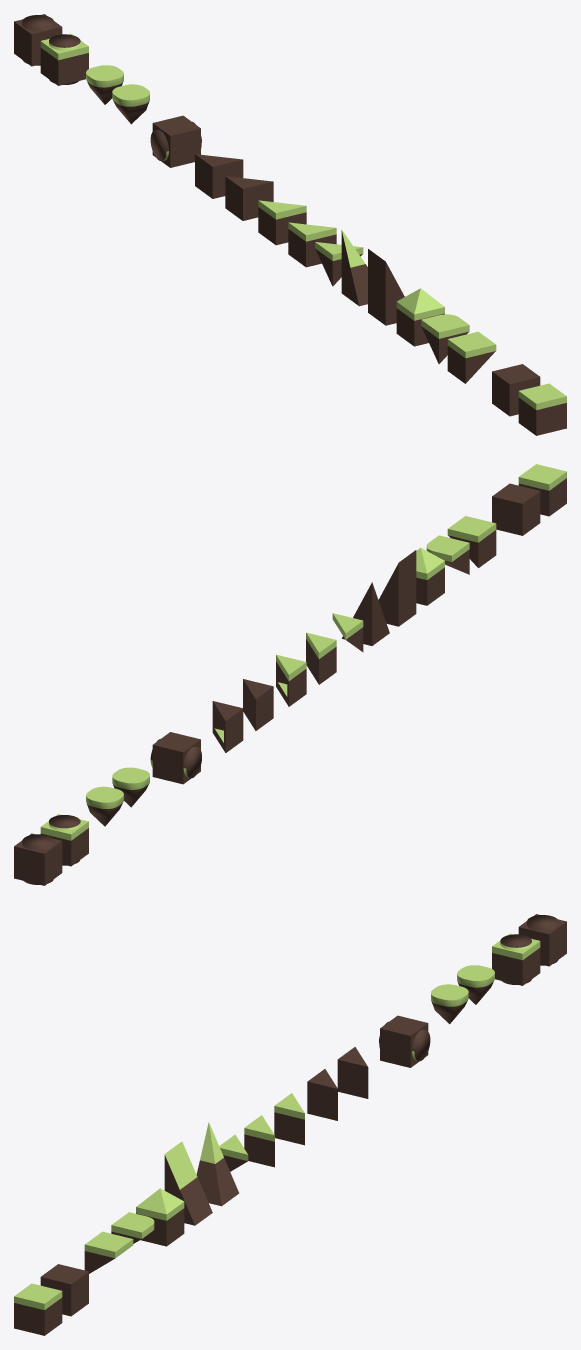
File: Tiles 03.gltf
3 views of the same model, one above another, from view 1: azimuth 30°, elevation 25°; view 2: azimuth 150°, elevation 25°; view 3: azimuth 330°, elevation 25° (orthographic).
Parts seen in each view (by area): view 1: 01 Ground Base -col, 05 Wall Slanted -col, 02 Ground Edge -col, 04 Ground Spike -col, 13 Ground Hole -col, 10 Ground Block Hollow -col, 09 Ground Triangle Block -col, 01b Ground Block -col, 09b Ground Triangle Block Hollow -col, 09b Ground Triangle Hollow -col.001, 08 Ground Trinagle 2 -col, 06 Wall Slanted Corner -col (+5 smaller); view 2: 01b Ground Block -col, 05 Wall Slanted -col, 14 Ground Block Hole -col, 10 Ground Block Hollow -col, 01 Ground Base -col, 02 Ground Edge -col, 04 Ground Spike -col, 09b Ground Triangle Block Hollow -col, 08 Ground Trinagle 2 -col, 09 Ground Triangle Block -col, 09b Ground Triangle Hollow -col.001, 06 Wall Slanted Corner -col (+5 smaller); view 3: 05 Wall Slanted -col, 01 Ground Base -col, 06 Wall Slanted Corner -col, 04 Ground Spike -col, 13 Ground Hole -col, 10 Ground Block Hollow -col, 01b Ground Block -col, 09b Ground Triangle Block Hollow -col, 09 Ground Triangle Block -col, 09b Ground Triangle Hollow -col.001, 02 Ground Edge -col, 08 Ground Trinagle 2 -col (+5 smaller).
Part boxes in pixels (<box>): 01 Ground Base -col: <box>518,383,566,435</box>; 05 Wall Slanted -col: <box>368,249,404,325</box>; 02 Ground Edge -col: <box>447,331,496,383</box>; 04 Ground Spike -col: <box>396,288,444,346</box>; 13 Ground Hole -col: <box>40,33,88,85</box>; 10 Ground Block Hollow -col: <box>152,115,200,167</box>; 09 Ground Triangle Block -col: <box>225,176,273,220</box>; 01b Ground Block -col: <box>492,364,540,416</box>; 09b Ground Triangle Block Hollow -col: <box>195,154,243,198</box>; 09b Ground Triangle Hollow -col.001: <box>258,200,306,245</box>; 08 Ground Trinagle 2 -col: <box>288,222,336,267</box>; 06 Wall Slanted Corner -col: <box>341,230,367,306</box>; 01b Ground Block -col: <box>492,483,540,535</box>; 05 Wall Slanted -col: <box>378,550,416,626</box>; 14 Ground Block Hole -col: <box>14,833,62,885</box>; 10 Ground Block Hollow -col: <box>152,732,200,784</box>; 01 Ground Base -col: <box>518,464,566,516</box>; 02 Ground Edge -col: <box>447,516,496,567</box>; 04 Ground Spike -col: <box>416,547,444,605</box>; 09b Ground Triangle Block Hollow -col: <box>212,701,243,752</box>; 08 Ground Trinagle 2 -col: <box>306,632,336,684</box>; 09 Ground Triangle Block -col: <box>243,679,273,730</box>; 09b Ground Triangle Hollow -col.001: <box>276,654,306,706</box>; 06 Wall Slanted Corner -col: <box>342,582,389,645</box>; 05 Wall Slanted -col: <box>164,1141,212,1225</box>; 01 Ground Base -col: <box>14,1283,62,1335</box>; 06 Wall Slanted Corner -col: <box>196,1122,239,1206</box>; 04 Ground Spike -col: <box>136,1188,184,1246</box>; 13 Ground Hole -col: <box>492,933,540,985</box>; 10 Ground Block Hollow -col: <box>380,1015,428,1067</box>; 01b Ground Block -col: <box>40,1264,88,1316</box>; 09b Ground Triangle Block Hollow -col: <box>337,1047,368,1098</box>; 09 Ground Triangle Block -col: <box>307,1069,337,1120</box>; 09b Ground Triangle Hollow -col.001: <box>274,1093,304,1145</box>; 02 Ground Edge -col: <box>84,1231,133,1273</box>; 08 Ground Trinagle 2 -col: <box>244,1115,274,1167</box>.
Size of the model in its own units: 2.32 by 4.16 by 59.
